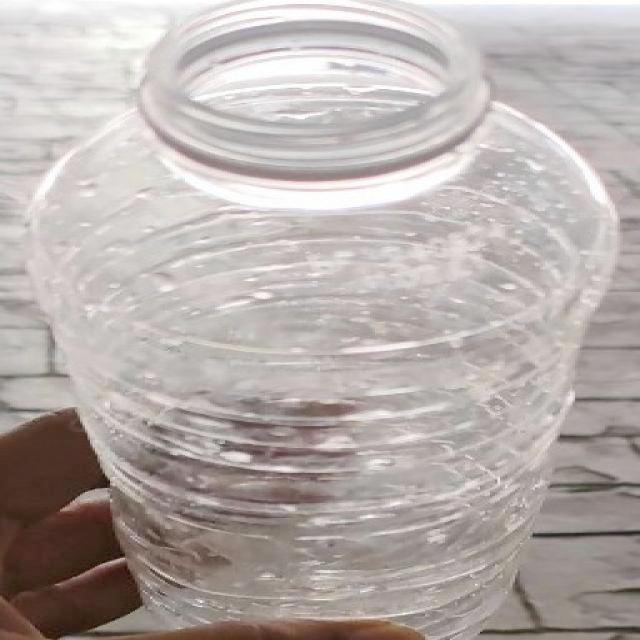bottle: (31, 0, 619, 640)
